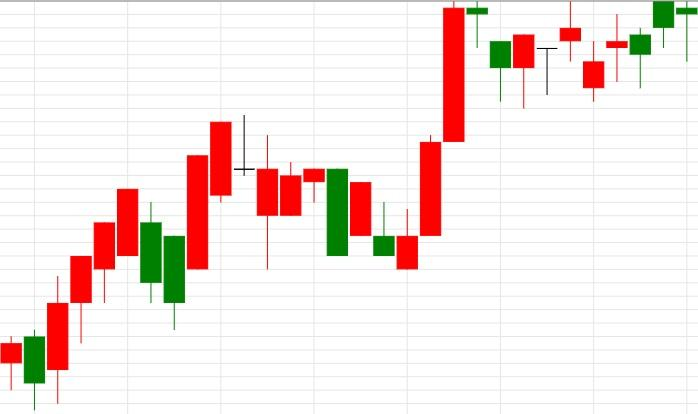three_white_soldiers_rise: (209, 0, 466, 270)
